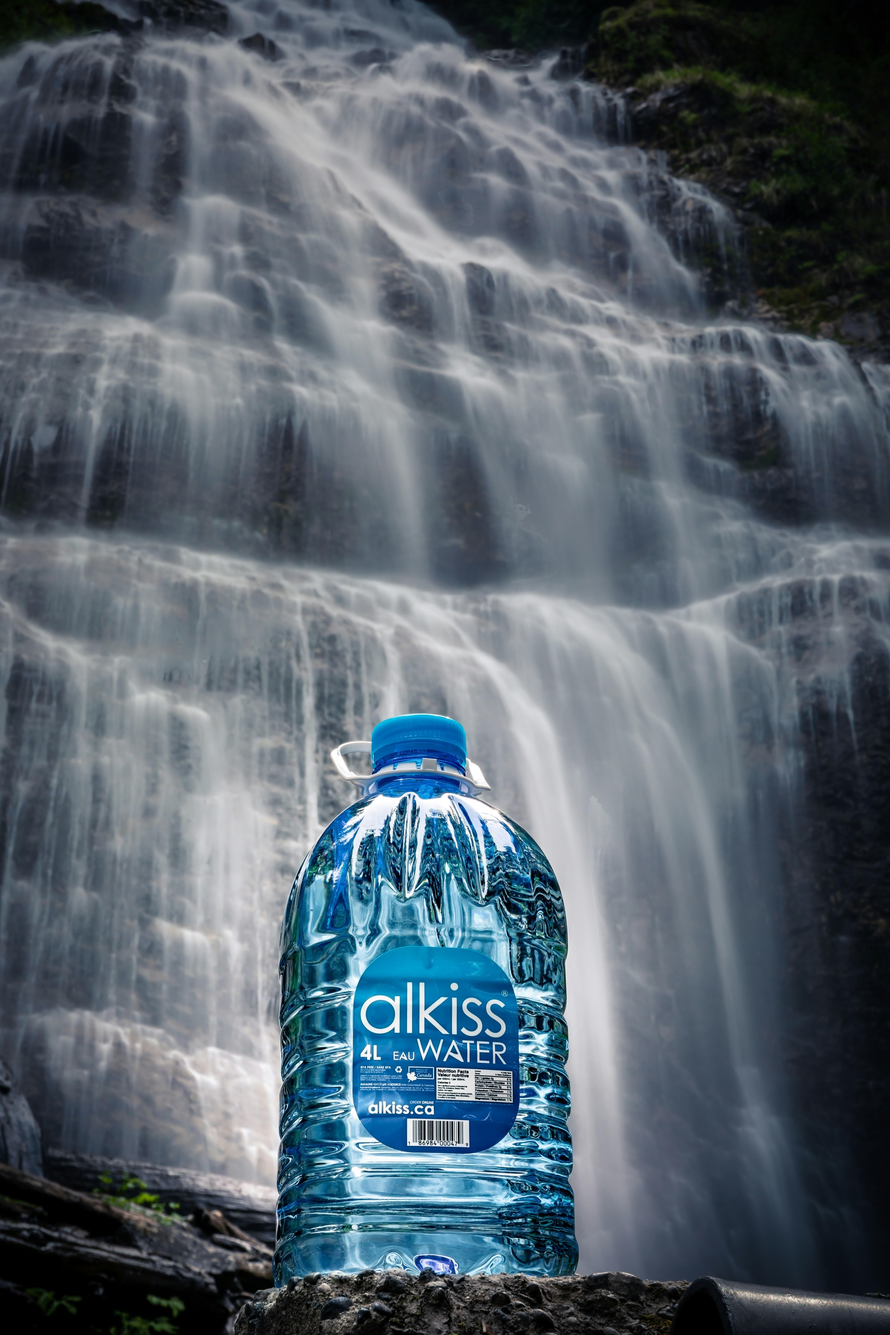Bottle-Detection: (241, 641, 591, 1335)
